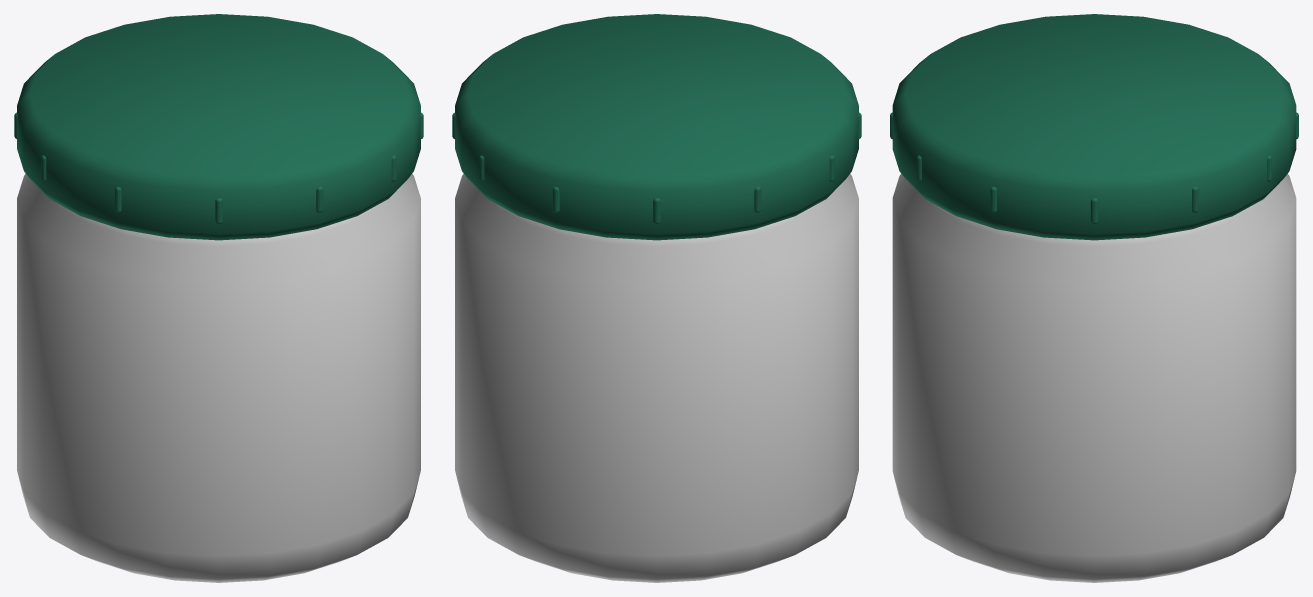
File: jar.glb
3 renders of one model, left to right at view 1: azimuth 30°, elevation 25°; view 2: azimuth 150°, elevation 25°; view 3: azimuth 270°, elevation 25°, orthographic.
Visible parts, largest first — view 1: body, cap; view 2: body, cap; view 3: body, cap.
Part boxes in pixels (left/top/right/bottom): body: left=17, top=174, right=420, bottom=582; cap: left=14, top=14, right=423, bottom=240; body: left=455, top=174, right=858, bottom=582; cap: left=452, top=14, right=861, bottom=240; body: left=892, top=174, right=1296, bottom=582; cap: left=890, top=14, right=1298, bottom=240.
Size of the model in its own units: 0.64 by 0.72 by 0.64.
